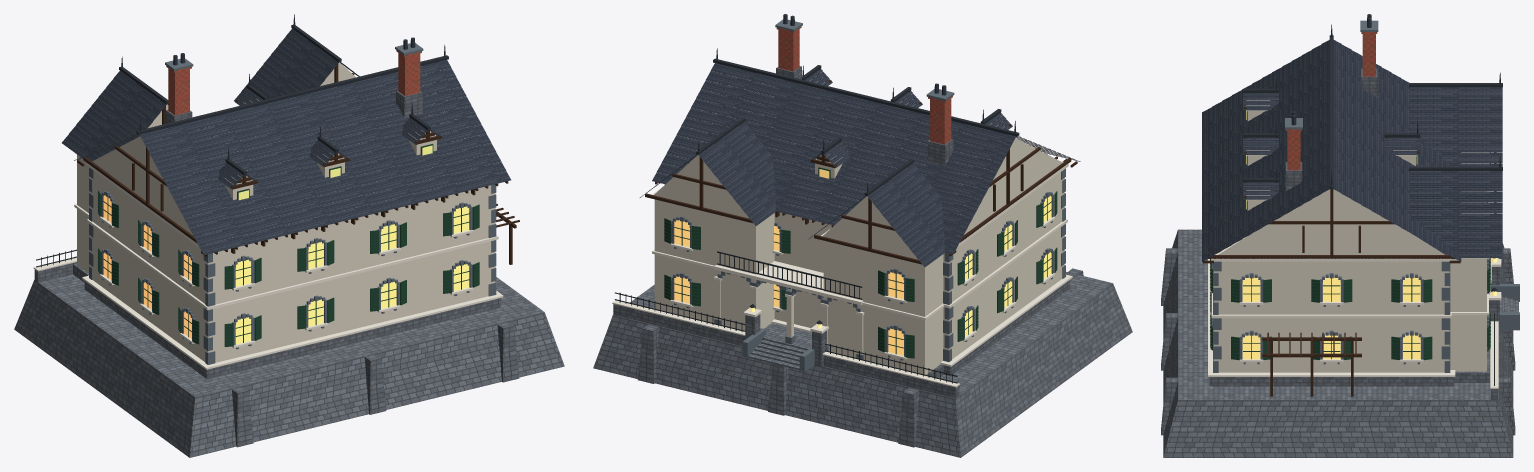
Rendered from fv_ltk_03_ly_thuong_kiet_18_brittany_slate_villa.glb.
The picture shows the model from 3 angles, left to right: view 1: azimuth 30°, elevation 25°; view 2: azimuth 150°, elevation 25°; view 3: azimuth 270°, elevation 25°; orthographic projection. The views are drawn at different scales.
Visible parts, largest first — view 1: Normandy_Brittany_Layered_Roof, Foundation_Skirt_Neg3p5m, Villa_Stucco_Walls, Molded_Cornices_And_Sills, PineGreen_Louvered_Shutters, Stone_Quoins_And_Arches, Warm_Night_Windows_20h00_Blend, Roof_Ridges_Caps_And_Finials, Exposed_Timber_Trusses_And_Rafters, Brick_Chimney_Stacks; view 2: Foundation_Skirt_Neg3p5m, Villa_Stucco_Walls, Normandy_Brittany_Layered_Roof, Molded_Cornices_And_Sills, Stone_Quoins_And_Arches, PineGreen_Louvered_Shutters, Exposed_Timber_Trusses_And_Rafters, Roof_Ridges_Caps_And_Finials, Warm_Night_Windows_20h00_Blend, Wrought_Iron_Balustrades_And_Gate, Brick_Chimney_Stacks; view 3: Normandy_Brittany_Layered_Roof, Foundation_Skirt_Neg3p5m, Villa_Stucco_Walls, Molded_Cornices_And_Sills, Stone_Quoins_And_Arches, Exposed_Timber_Trusses_And_Rafters, PineGreen_Louvered_Shutters, Warm_Night_Windows_20h00_Blend, Roof_Ridges_Caps_And_Finials, Brick_Chimney_Stacks.
Part boxes in pixels (x1,y1,x2,y2): Normandy_Brittany_Layered_Roof: (62, 28, 510, 255); Foundation_Skirt_Neg3p5m: (14, 90, 564, 457); Villa_Stucco_Walls: (77, 62, 495, 362); Molded_Cornices_And_Sills: (33, 95, 503, 369); PineGreen_Louvered_Shutters: (97, 144, 479, 346); Stone_Quoins_And_Arches: (89, 43, 496, 364); Warm_Night_Windows_20h00_Blend: (103, 145, 469, 344); Roof_Ridges_Caps_And_Finials: (74, 14, 448, 182); Exposed_Timber_Trusses_And_Rafters: (77, 64, 519, 264); Brick_Chimney_Stacks: (166, 50, 421, 115); Foundation_Skirt_Neg3p5m: (593, 66, 1132, 457); Villa_Stucco_Walls: (654, 97, 1064, 374); Normandy_Brittany_Layered_Roof: (644, 14, 1015, 266); Molded_Cornices_And_Sills: (612, 79, 1072, 387); Stone_Quoins_And_Arches: (671, 19, 1065, 371); PineGreen_Louvered_Shutters: (664, 167, 1057, 358); Exposed_Timber_Trusses_And_Rafters: (645, 69, 1077, 264); Roof_Ridges_Caps_And_Finials: (640, 48, 1080, 239); Warm_Night_Windows_20h00_Blend: (674, 169, 1051, 355); Wrought_Iron_Balustrades_And_Gate: (614, 251, 957, 383); Brick_Chimney_Stacks: (776, 26, 952, 144); Normandy_Brittany_Layered_Roof: (1202, 14, 1502, 261); Foundation_Skirt_Neg3p5m: (1161, 68, 1518, 457); Villa_Stucco_Walls: (1214, 111, 1486, 372); Molded_Cornices_And_Sills: (1208, 100, 1501, 388); Stone_Quoins_And_Arches: (1210, 20, 1519, 372); Exposed_Timber_Trusses_And_Rafters: (1202, 93, 1496, 396); PineGreen_Louvered_Shutters: (1210, 111, 1490, 360); Warm_Night_Windows_20h00_Blend: (1242, 110, 1496, 359); Roof_Ridges_Caps_And_Finials: (1243, 24, 1502, 189); Brick_Chimney_Stacks: (1286, 32, 1377, 170).
Size of the model in its own units: 26.93 by 20.5 by 21.93.
Materials: 12 (3 with a texture image).
